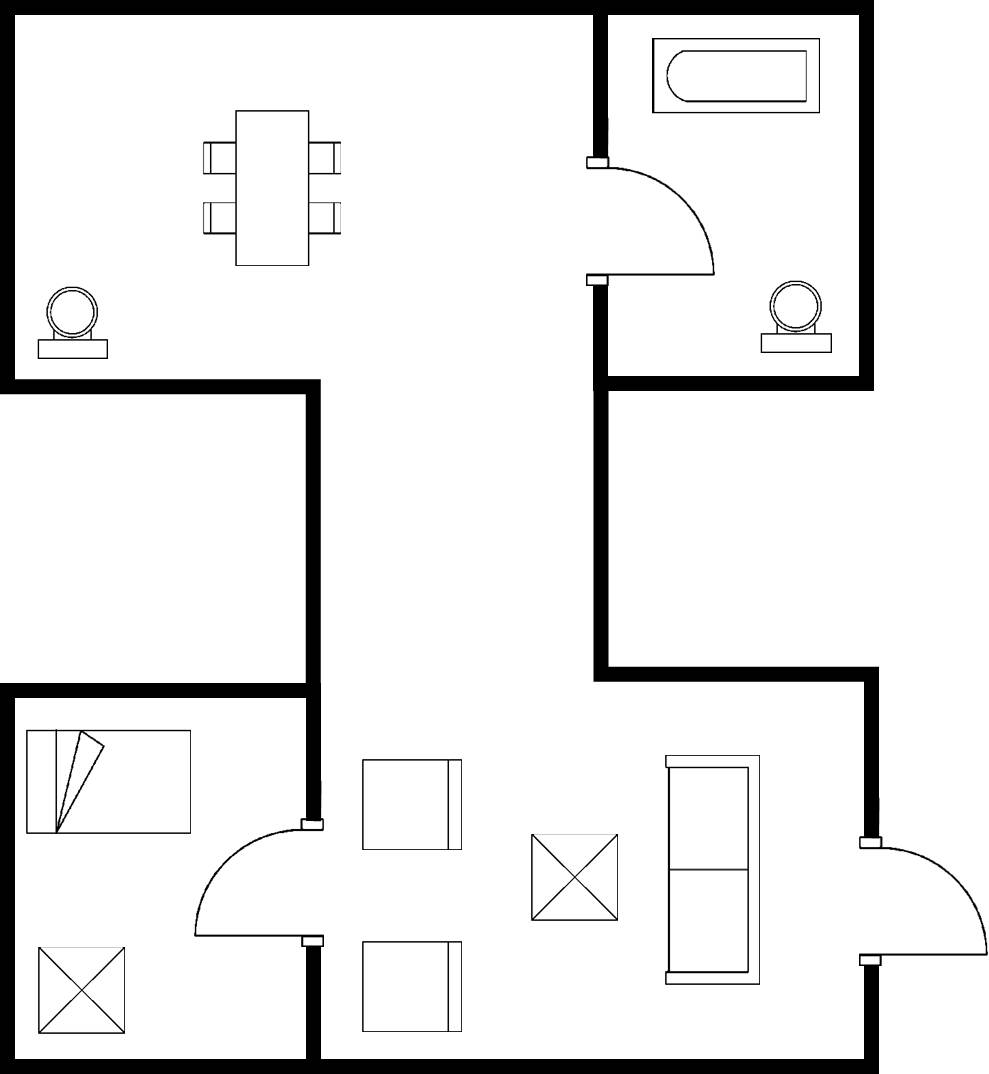bed: (18, 721, 202, 842)
coffee_table: (522, 826, 630, 931), (31, 938, 134, 1042)
dining_table: (193, 101, 352, 273)
large_sink: (27, 280, 121, 367), (752, 273, 840, 359)
large_sofa: (657, 747, 767, 995)
small_sofa: (349, 934, 468, 1042), (354, 751, 471, 859)
tub: (641, 31, 829, 123)
